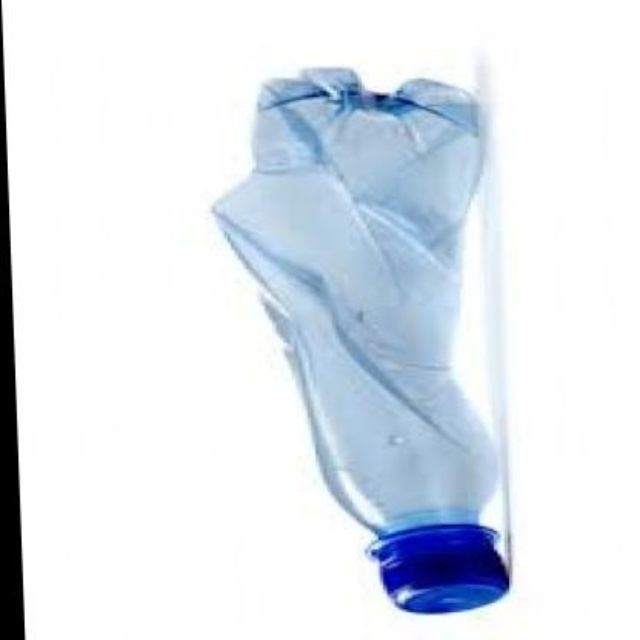trash: (212, 68, 508, 611)
